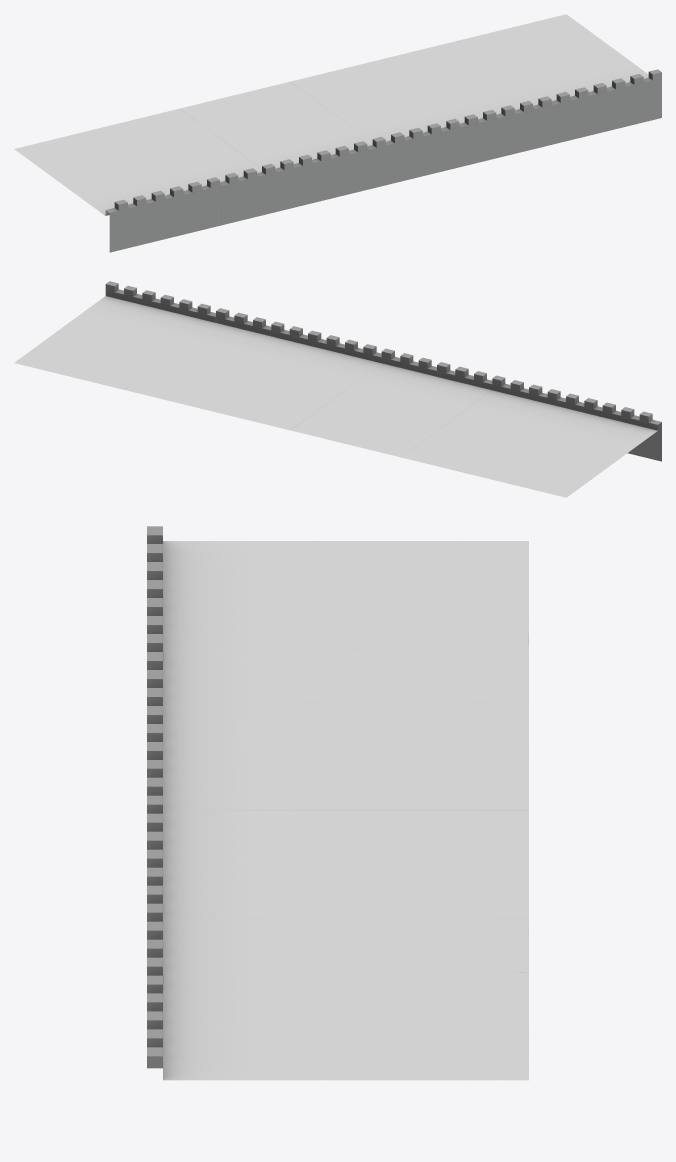
Rendered from Animatic_Wall.fbx.
3 views of the same model, one above another, from view 1: azimuth 30°, elevation 25°; view 2: azimuth 150°, elevation 25°; view 3: azimuth 270°, elevation 25° (orthographic). The views are drawn at different scales.
Visible parts, largest first — view 1: Wall_Longgg; view 2: Wall_Longgg; view 3: Wall_Longgg.
Boxes of the visible parts, box(x1,y1,x2,y2) form: Wall_Longgg: box(14, 14, 661, 252); Wall_Longgg: box(14, 281, 661, 497); Wall_Longgg: box(147, 526, 528, 1080).
Size of the model in its own units: 1455 by 115 by 436.
